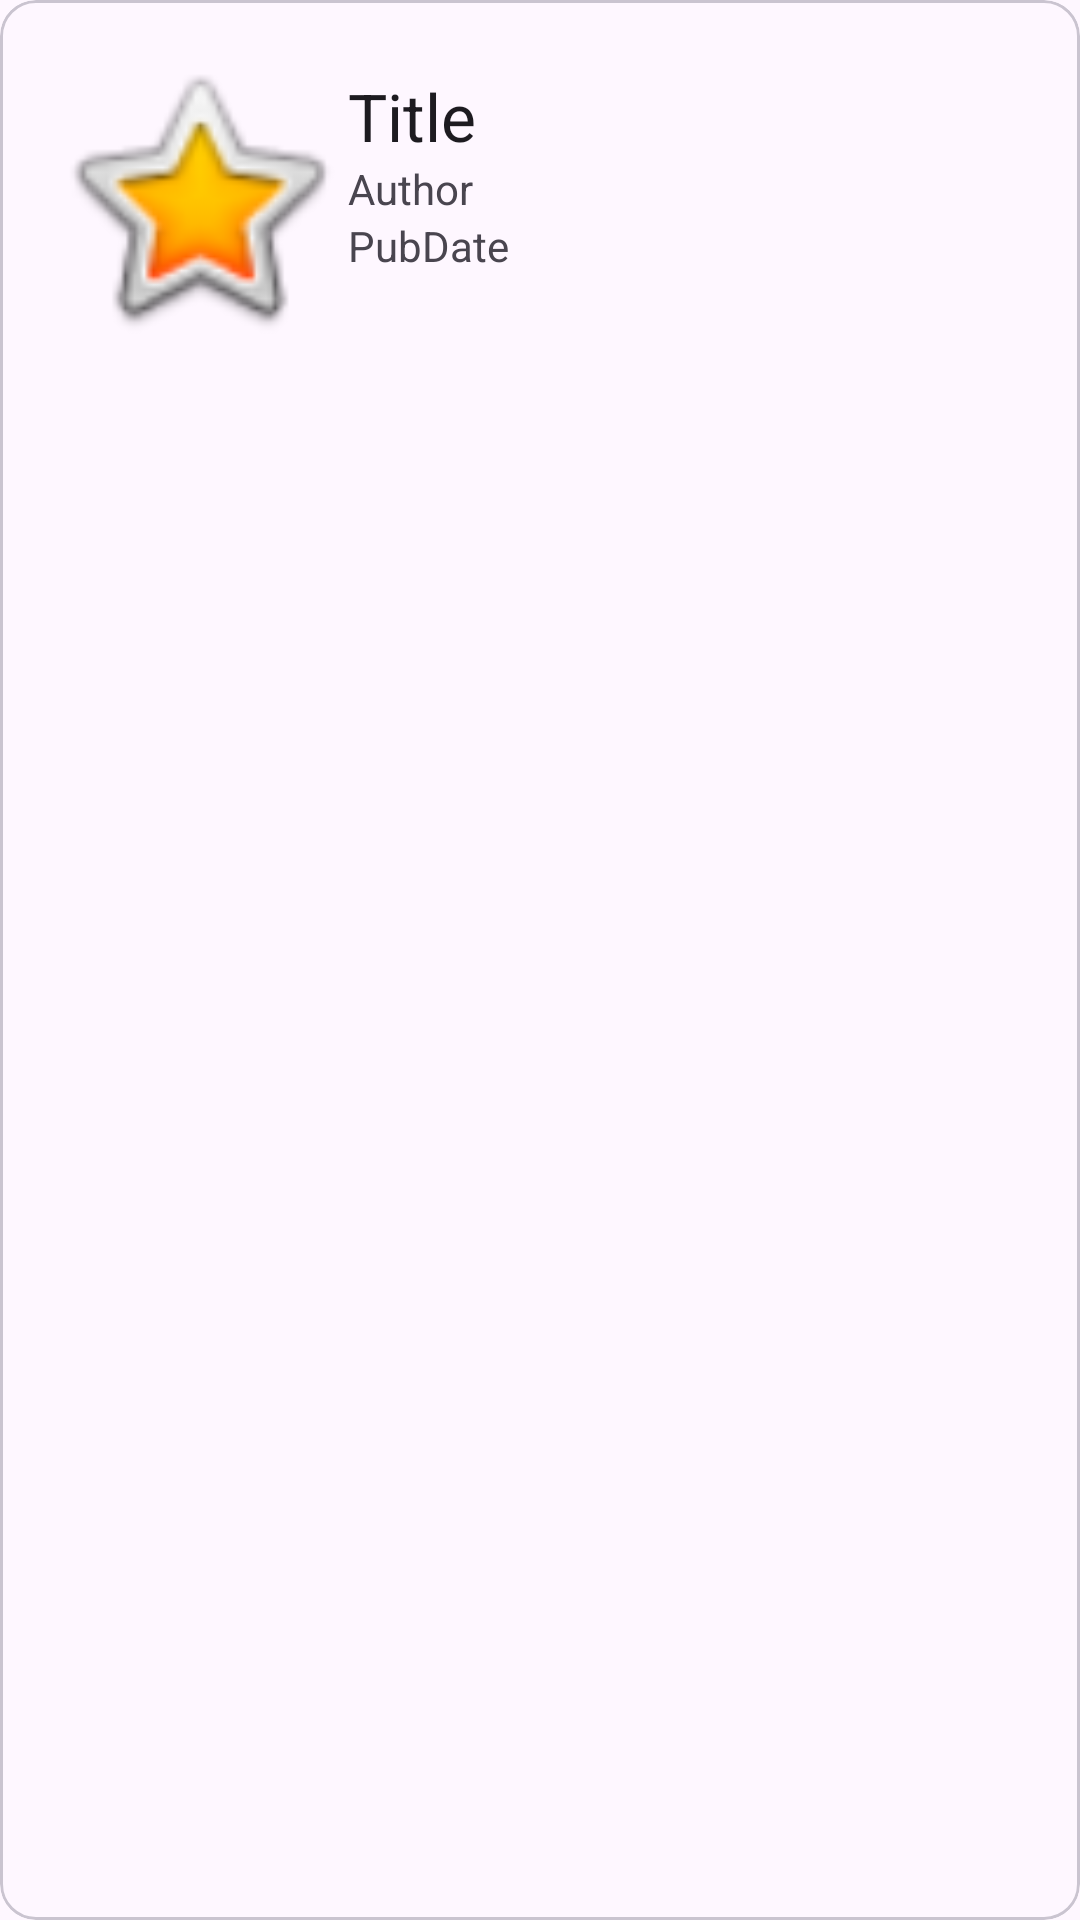

Icons on this 1080 × 1920 Android screen, each with its box as box=[x1, y1, x2, y2]:
star on: box=[75, 78, 326, 323]
